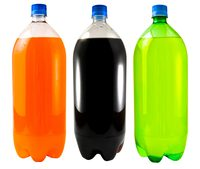Rec_Plastic: (131, 1, 188, 163), (9, 1, 66, 162), (69, 1, 125, 160)
